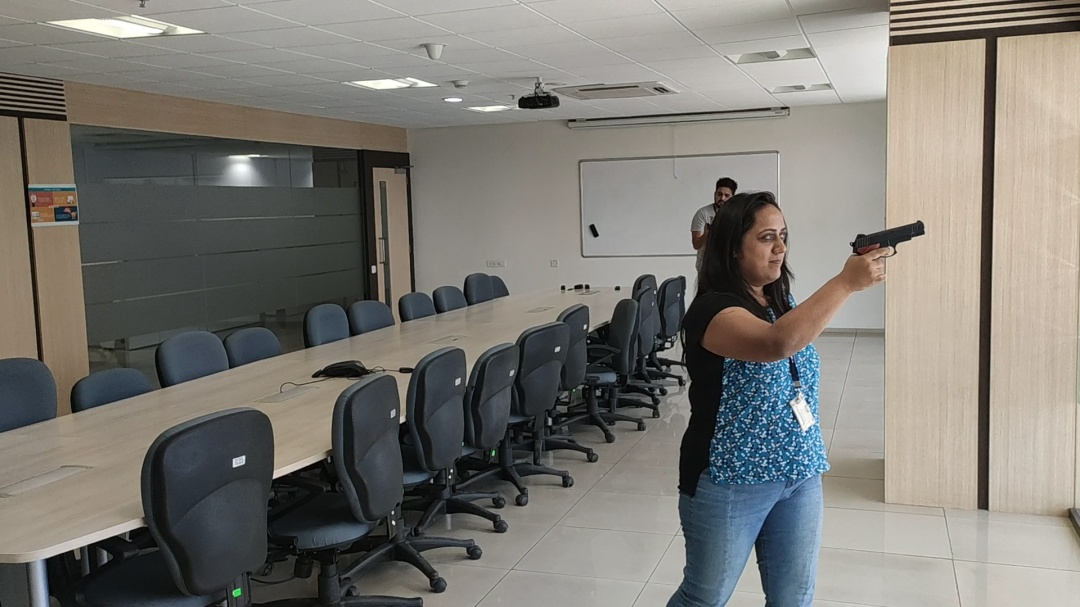gun: (850, 220, 927, 258)
